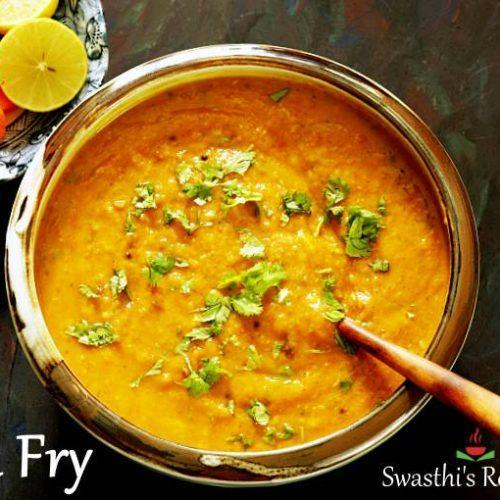dal: (36, 82, 449, 451)
